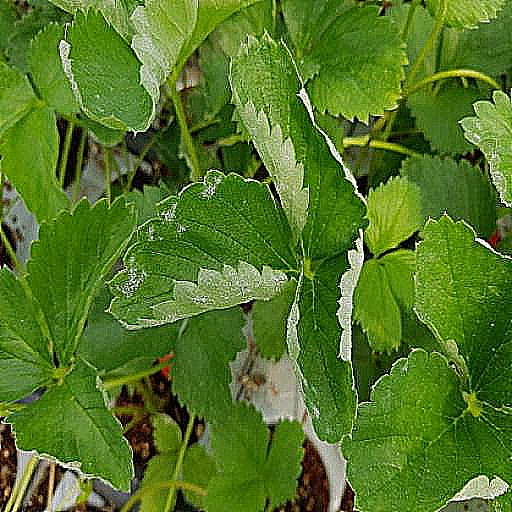Powdery Mildew Leaf: (142, 28, 285, 270), (209, 168, 410, 331), (0, 347, 174, 511), (313, 0, 453, 134), (377, 356, 510, 494), (145, 228, 226, 446), (0, 87, 56, 209)
